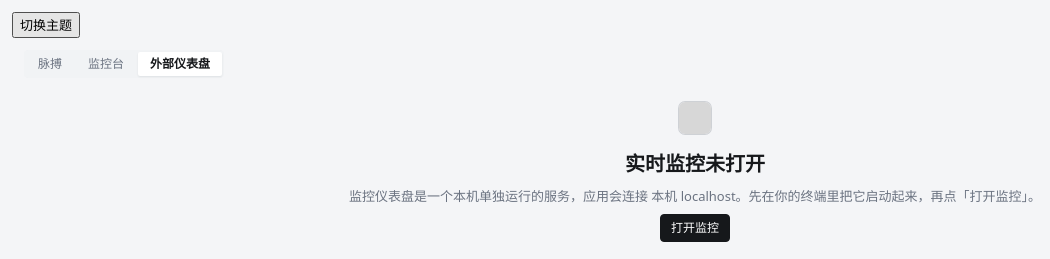
Test: MonitorPage › shows the attempt count while probing
Click the button "打开监控".
click(695, 228)  # box [660,214,730,242]
Wait 800 ms
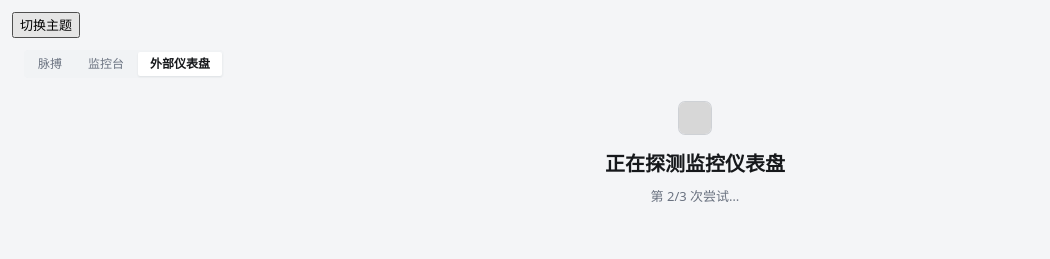
expect the text "第 2/3 次尝试…" is shown: met, box [651,186,739,206]
